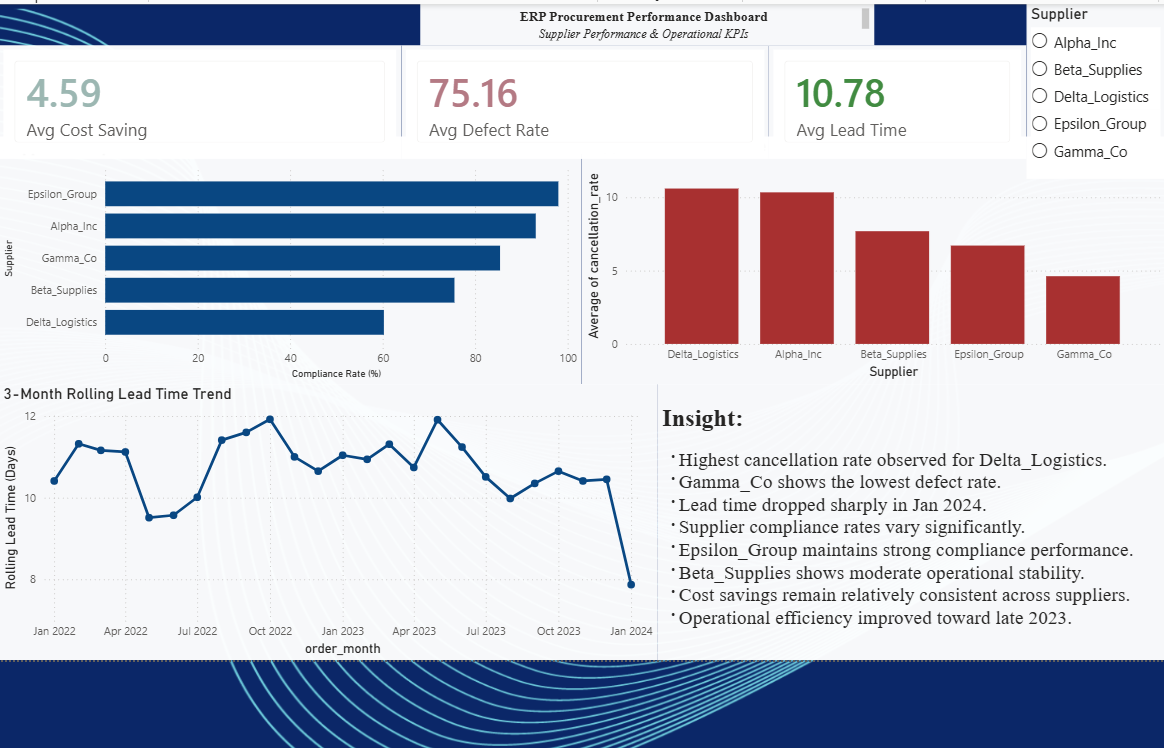

Layout of this report page (visuals, bound fields, positions):
{"tool":"powerbi","page":{"name":"Page 1","canvas":[1280,720],"ordinal":0},"visuals":[{"type":"clusteredBarChart","title":"Supplier Compliance Rate","fields":{"Category":["supplier_performance_summary.Supplier"],"Y":["Avg(supplier_performance_summary.compliance_rate)"]},"box":[0,145.5,639.5,271.7],"z":0},{"type":"clusteredColumnChart","title":"Supplier Cancellation Rate","fields":{"Category":["cancellation_analysis_view.Supplier"],"Y":["Avg(cancellation_analysis_view.cancellation_rate)"]},"box":[639.5,145.5,640.8,271.7],"z":1000},{"type":"lineChart","title":"3-Month Rolling Lead Time Trend","fields":{"Category":["monthly_lead_time_trend.order_month"],"Y":["Avg(monthly_lead_time_trend.rolling_3m_lead_time)"]},"box":[0,417.2,723.2,303.3],"z":2000},{"type":"cardVisual","fields":{"Data":["cancellation_analysis_view.Avg Cost Saving"]},"box":[0,45.3,441.9,124.9],"z":3000},{"type":"cardVisual","fields":{"Data":["cancellation_analysis_view.Avg Defect Rate"]},"box":[441.9,45.3,403.4,124.9],"z":4000},{"type":"cardVisual","fields":{"Data":["cancellation_analysis_view.Avg Lead Time"]},"box":[845.3,45.3,282.7,124.9],"z":5000},{"type":"listSlicer","fields":{"Values":["supplier_performance_summary.Supplier"]},"box":[1128,0,152.3,192.1],"z":6000},{"type":"textbox","box":[462.4,0,498.1,45.3],"z":6001},{"type":"textbox","box":[723.2,417.2,557.1,303.3],"z":6002}]}

Visuals, with their boxes on the page's 1280x720 design canvas (x1, y1, x2, y2). These are canvas units, not pixel positions in the 1164x748 screenshot, which may show the page scaled, cropped or inside an application window:
"Supplier Compliance Rate" clusteredBarChart: left=0, top=146, right=640, bottom=417
"Supplier Cancellation Rate" clusteredColumnChart: left=640, top=146, right=1280, bottom=417
"3-Month Rolling Lead Time Trend" lineChart: left=0, top=417, right=723, bottom=720
cardVisual - cancellation_analysis_view.Avg Cost Saving: left=0, top=45, right=442, bottom=170
cardVisual - cancellation_analysis_view.Avg Defect Rate: left=442, top=45, right=845, bottom=170
cardVisual - cancellation_analysis_view.Avg Lead Time: left=845, top=45, right=1128, bottom=170
listSlicer - supplier_performance_summary.Supplier: left=1128, top=0, right=1280, bottom=192
textbox: left=462, top=0, right=960, bottom=45
textbox: left=723, top=417, right=1280, bottom=720
